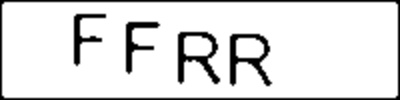F: (121, 17, 163, 77), (68, 11, 111, 68)
R: (172, 27, 224, 88), (227, 32, 274, 89)
